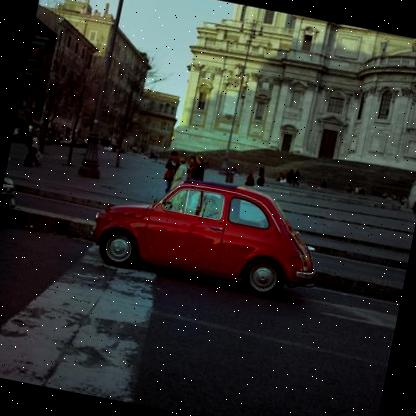car: (80, 155, 335, 307)
